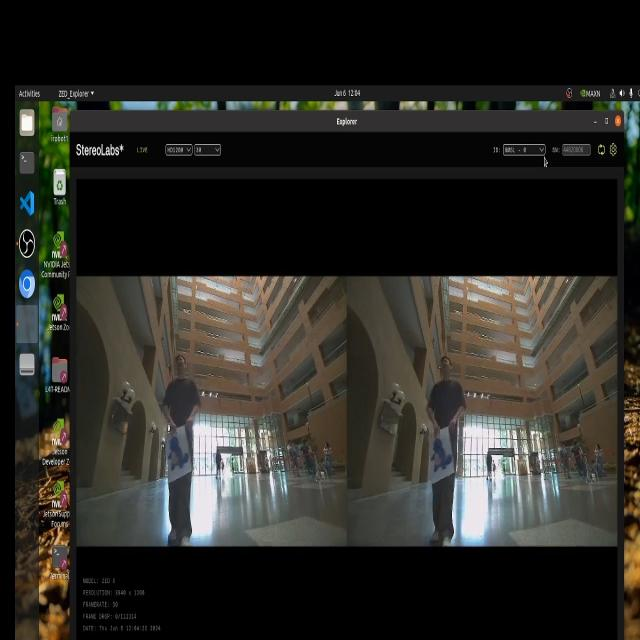blue: (427, 437, 453, 487), (172, 442, 192, 474)
